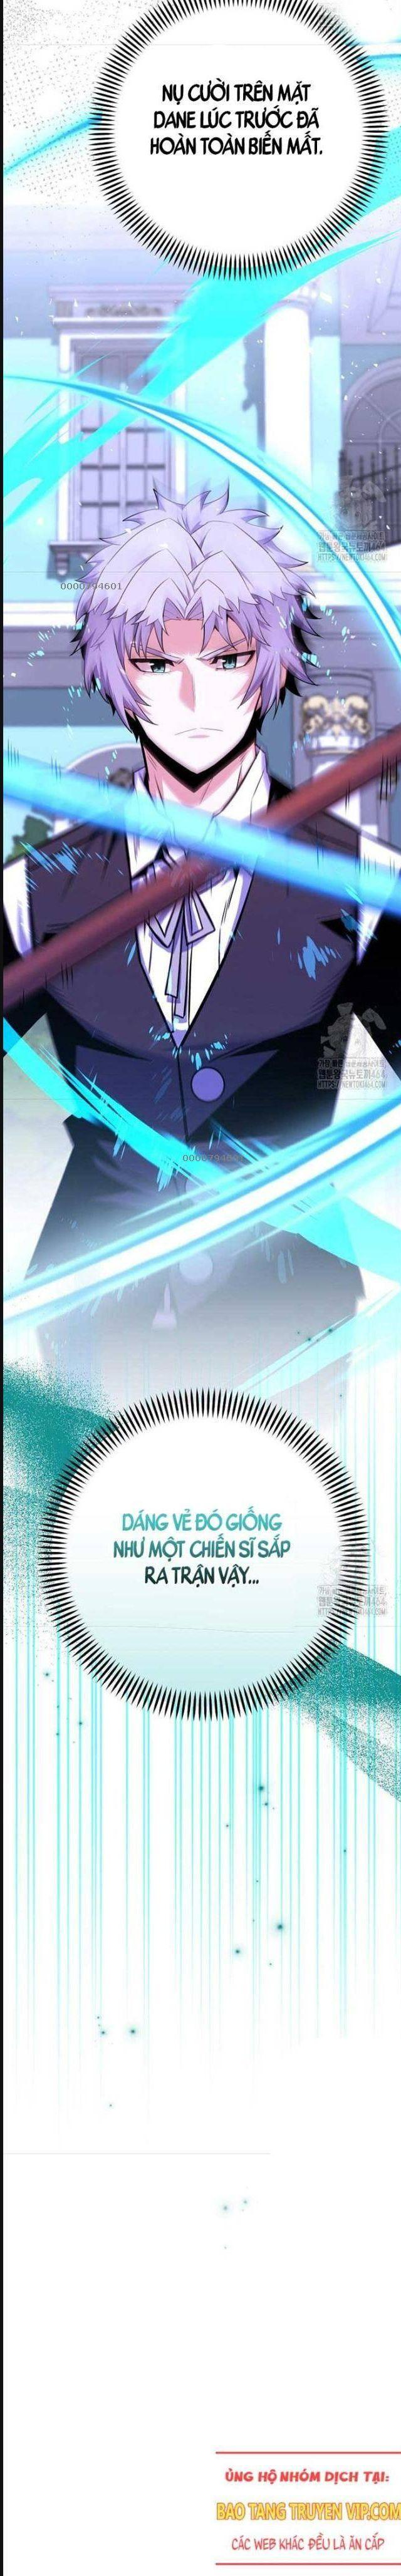quangcao: (210, 2446, 401, 2568)
